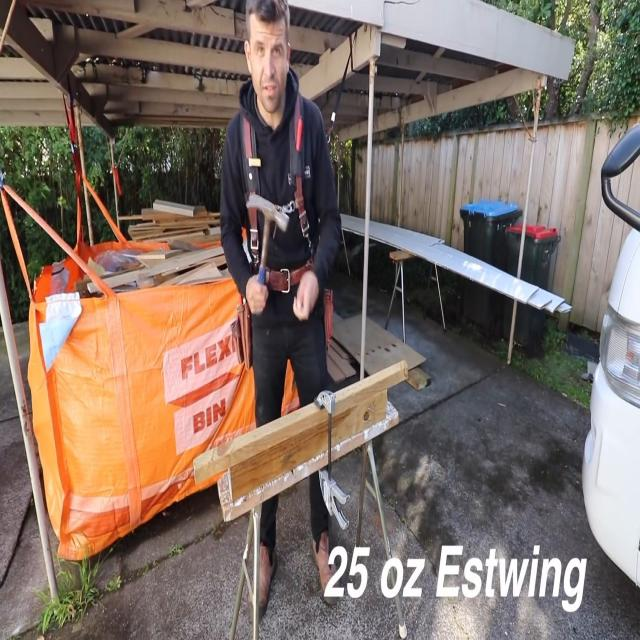hammer: (247, 195, 290, 284)
